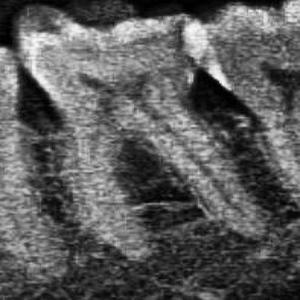tooth: (178, 3, 300, 198)
